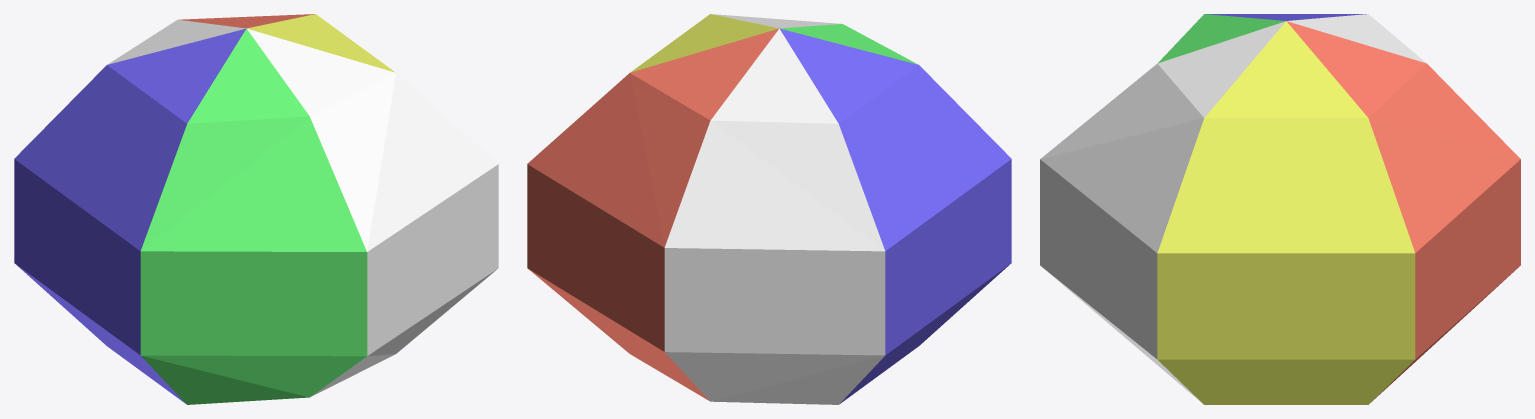
File: inv_ball.obj
3 views of the same model, side by side, from view 1: azimuth 30°, elevation 25°; view 2: azimuth 150°, elevation 25°; view 3: azimuth 270°, elevation 25° (orthographic). The views are drawn at different scales.
Size of the model in its own units: 0.2812 by 0.2734 by 0.3203.
